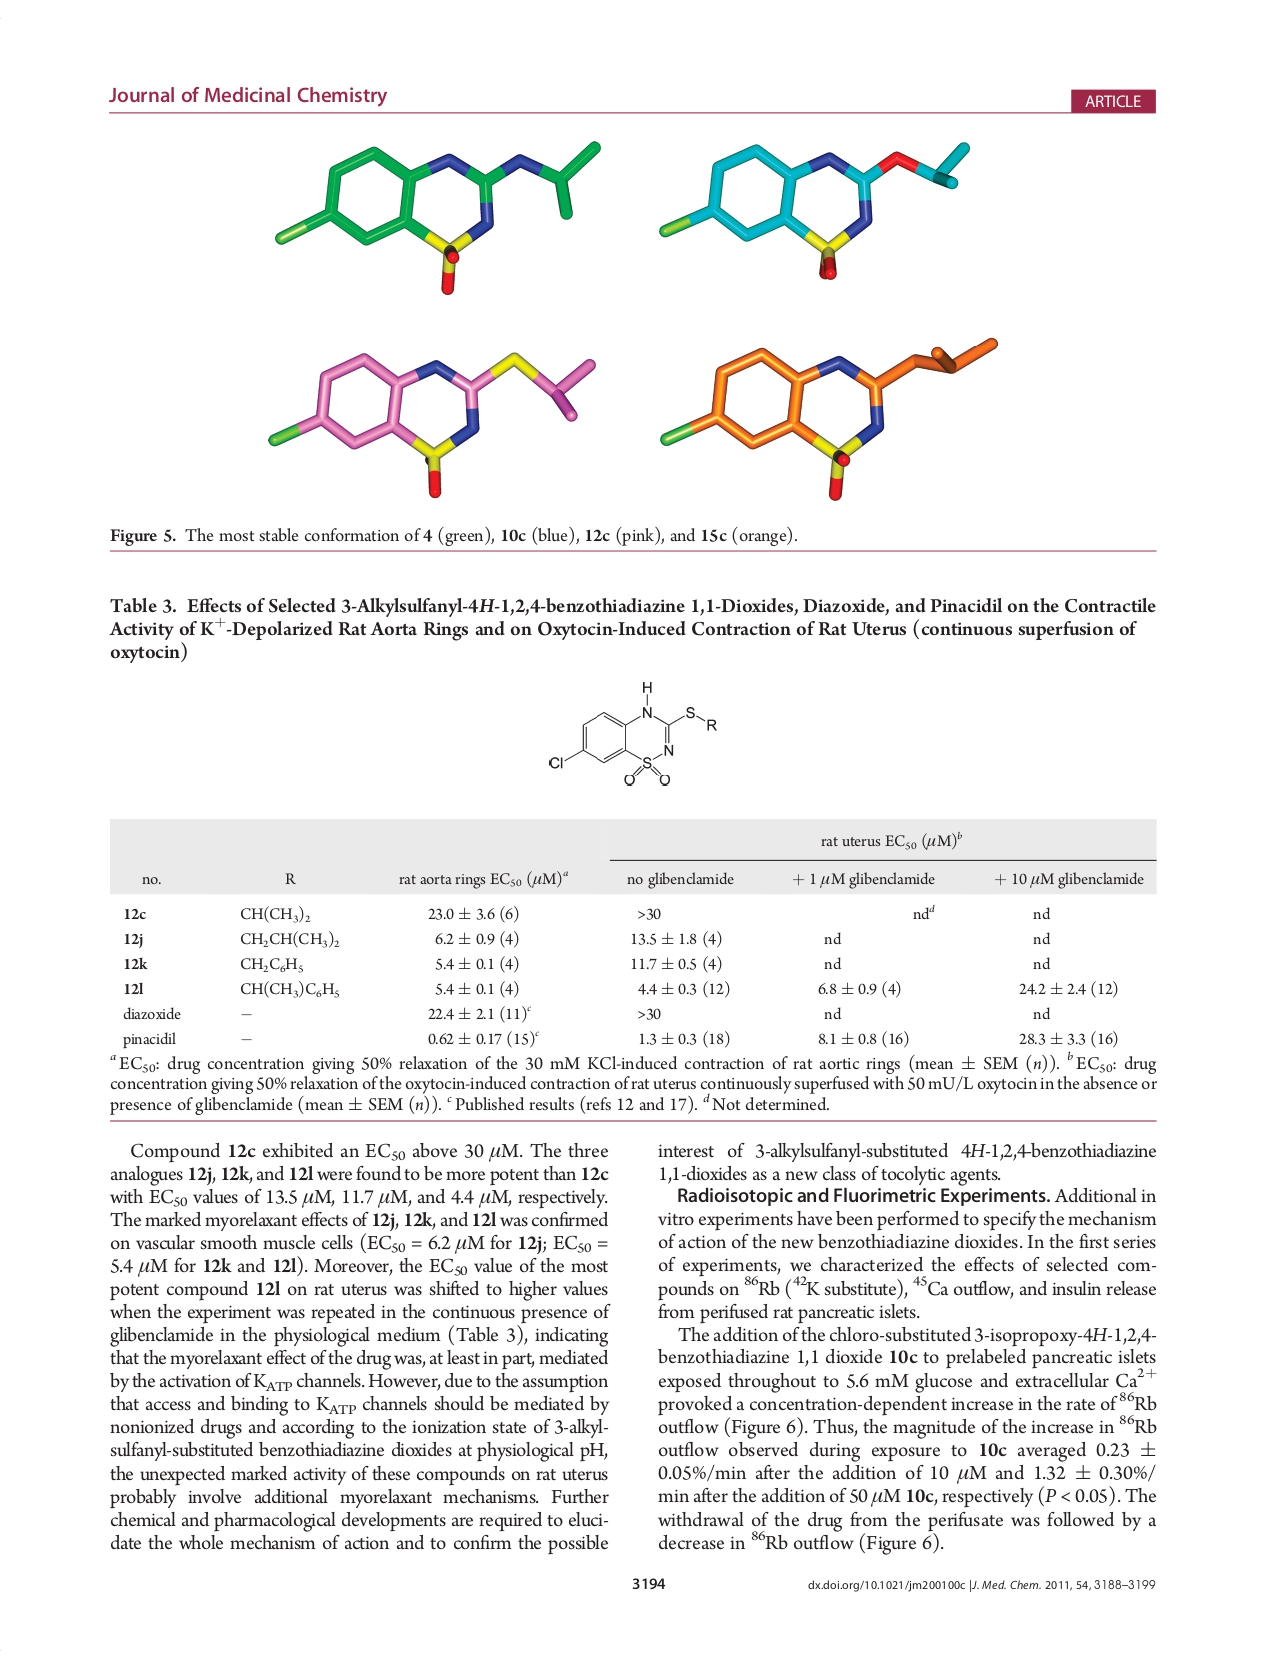exist_molecular: (543, 676, 718, 789)
